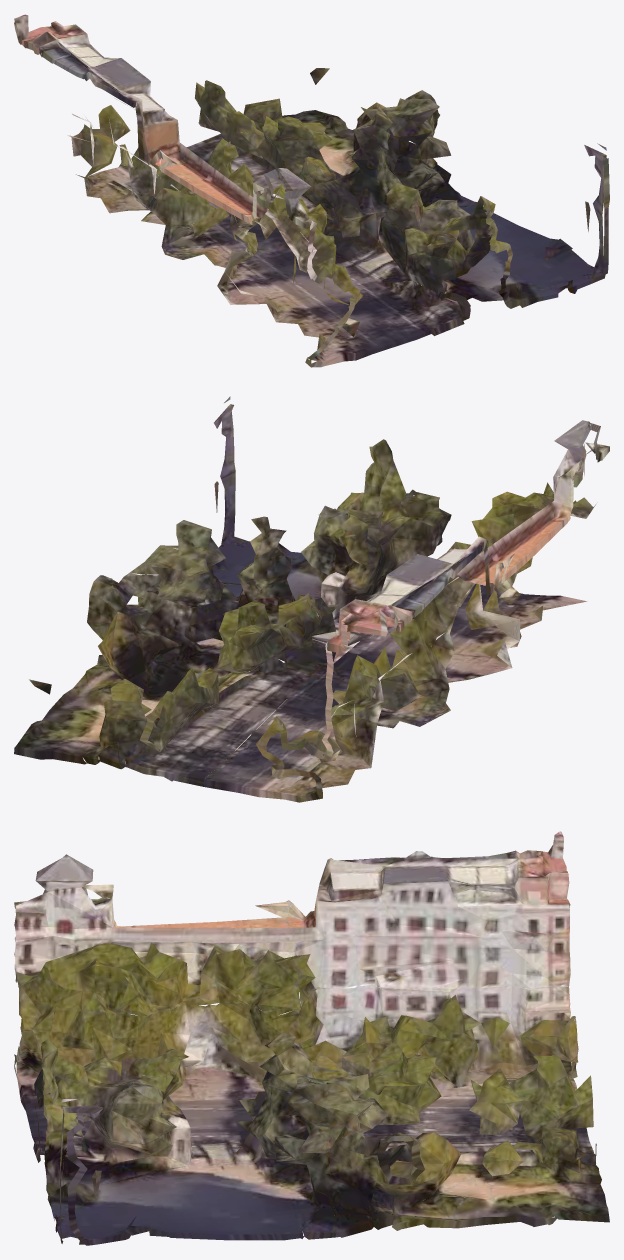
The picture shows the model from 3 angles, top to bottom: view 1: azimuth 30°, elevation 25°; view 2: azimuth 150°, elevation 25°; view 3: azimuth 270°, elevation 25°; orthographic projection. The views are drawn at different scales.
Visible parts, largest first — view 1: Mesh_0; view 2: Mesh_0; view 3: Mesh_0.
Part boxes in pixels (<box>): Mesh_0: <box>14,14,609,367</box>; Mesh_0: <box>14,396,609,802</box>; Mesh_0: <box>14,831,609,1245</box>.
Size of the model in its own units: 67.2 by 35.03 by 82.54.
1 material, 1 textured.
